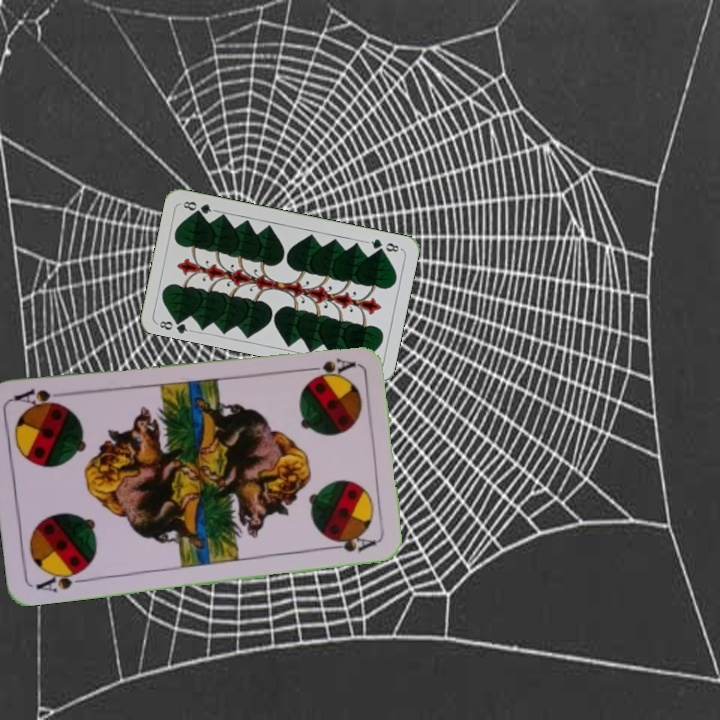G8: (154, 313, 194, 336), (363, 235, 404, 255)
SA: (32, 564, 90, 595), (299, 354, 358, 379)
